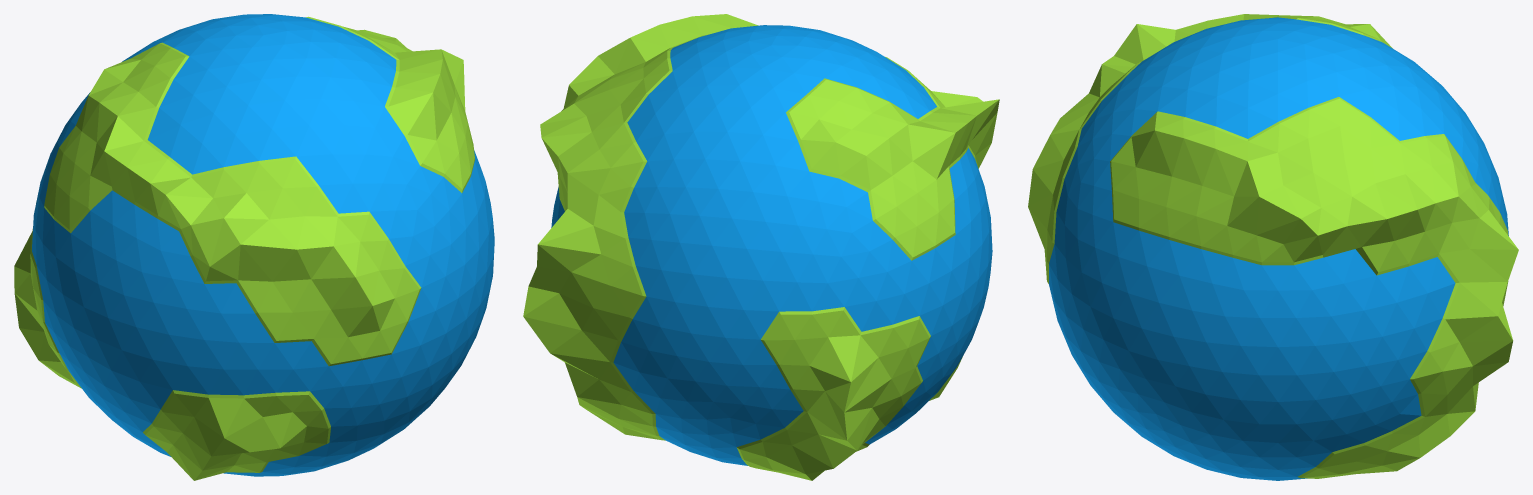
File: Planet5.glb
3 renders of one model, left to right at view 1: azimuth 30°, elevation 25°; view 2: azimuth 150°, elevation 25°; view 3: azimuth 270°, elevation 25°, orthographic. The views are drawn at different scales.
Parts seen in each view (by area): view 1: Planet5; view 2: Planet5; view 3: Planet5.
Boxes of the visible parts, bbox=[...] form: Planet5: bbox=[14, 14, 494, 480]; Planet5: bbox=[523, 14, 999, 480]; Planet5: bbox=[1028, 14, 1518, 480].
Size of the model in its own units: 10 by 10 by 10.59.
